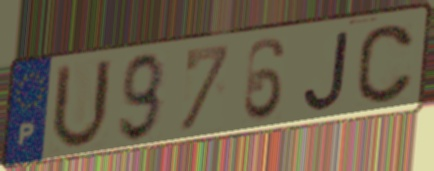6: (241, 36, 289, 125)
7: (181, 42, 232, 137)
9: (117, 50, 170, 145)
C: (354, 22, 417, 108)
J: (301, 28, 353, 114)
U: (47, 57, 115, 154)
